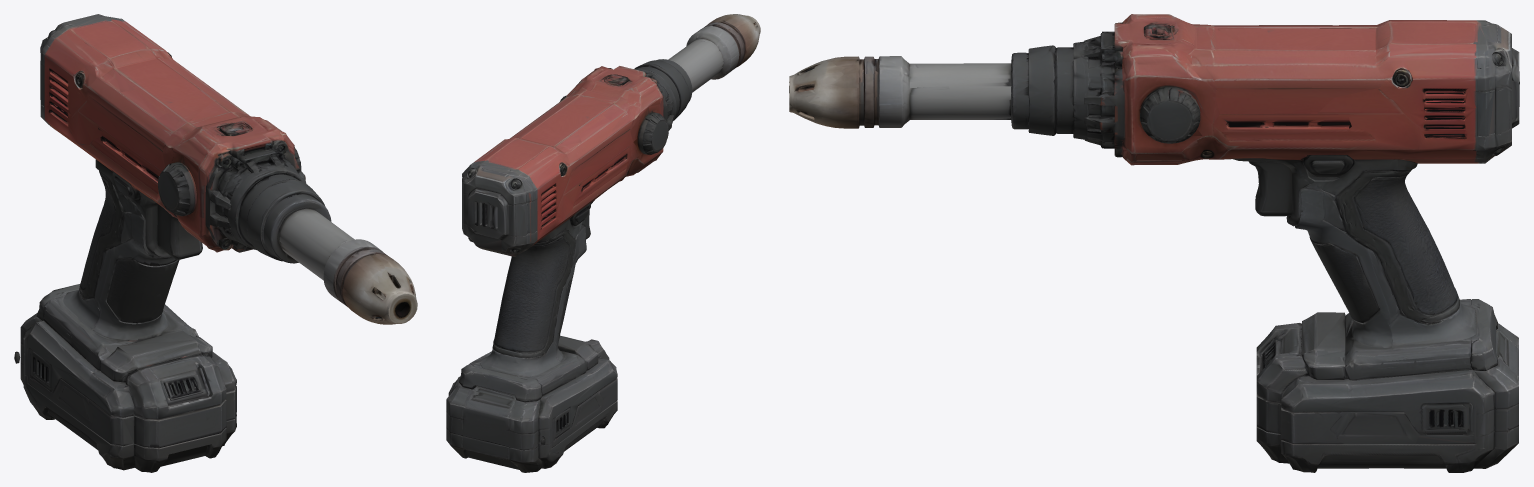
Rendered from Asset_05_LOD0.fbx.
3 views of the same model, side by side, from view 1: azimuth 30°, elevation 25°; view 2: azimuth 150°, elevation 25°; view 3: azimuth 270°, elevation 25° (orthographic). The views are drawn at different scales.
Parts seen in each view (by area): view 1: Asset_05_LOD0; view 2: Asset_05_LOD0; view 3: Asset_05_LOD0.
Part boxes in pixels (x1,y1,x2,y2): Asset_05_LOD0: [14, 14, 417, 472]; Asset_05_LOD0: [446, 14, 760, 472]; Asset_05_LOD0: [789, 14, 1519, 472].
Size of the model in its own units: 0.0762 by 0.2125 by 0.34.
Materials: 1 (1 with a texture image).
